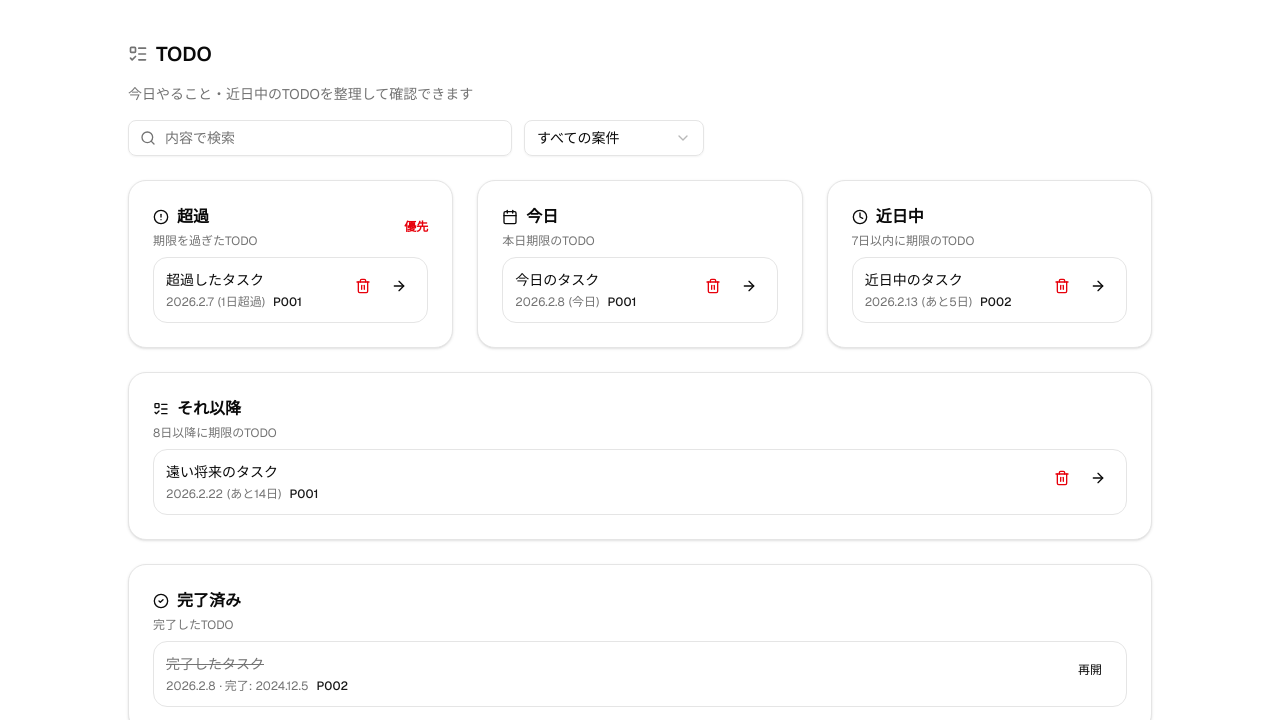
Test: TodosView › 検索機能 › マッチしない検索語では結果が表示されない
Type "存在しないタスク" into the field with placeholder "内容で検索" at (320, 138), box [128,120,512,156]
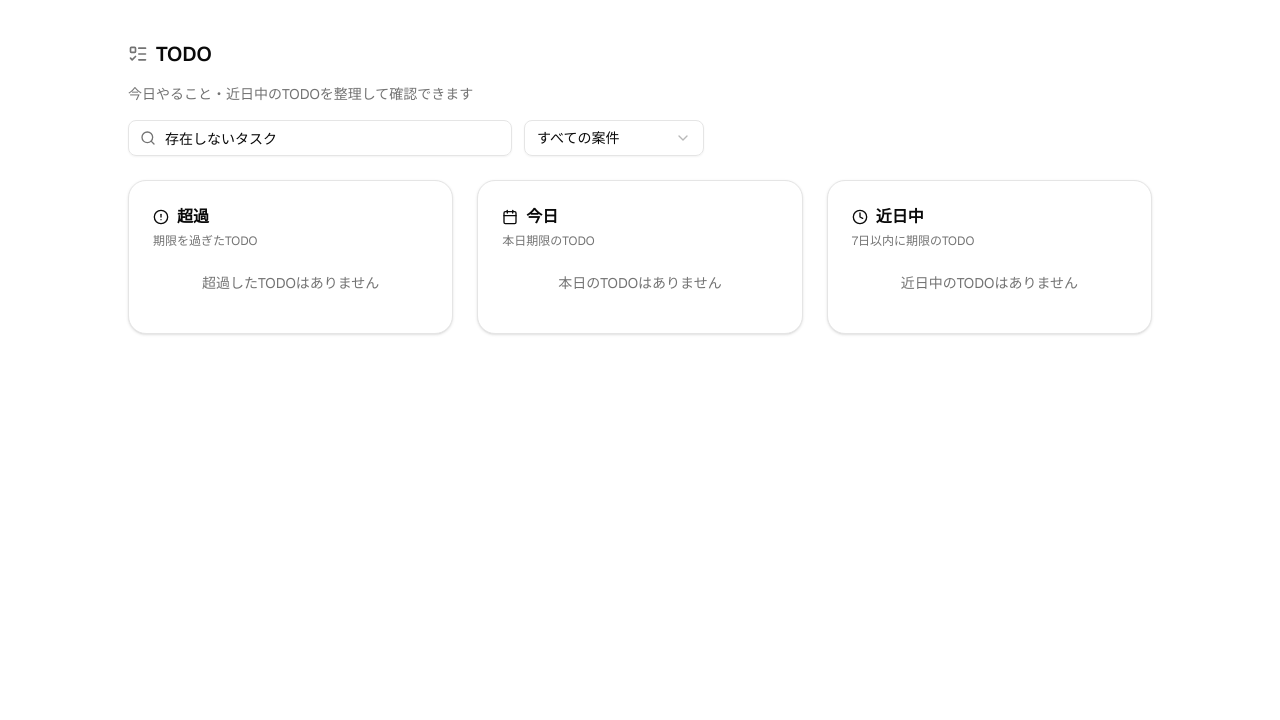
Check: the link "超過したタスク" is gone
